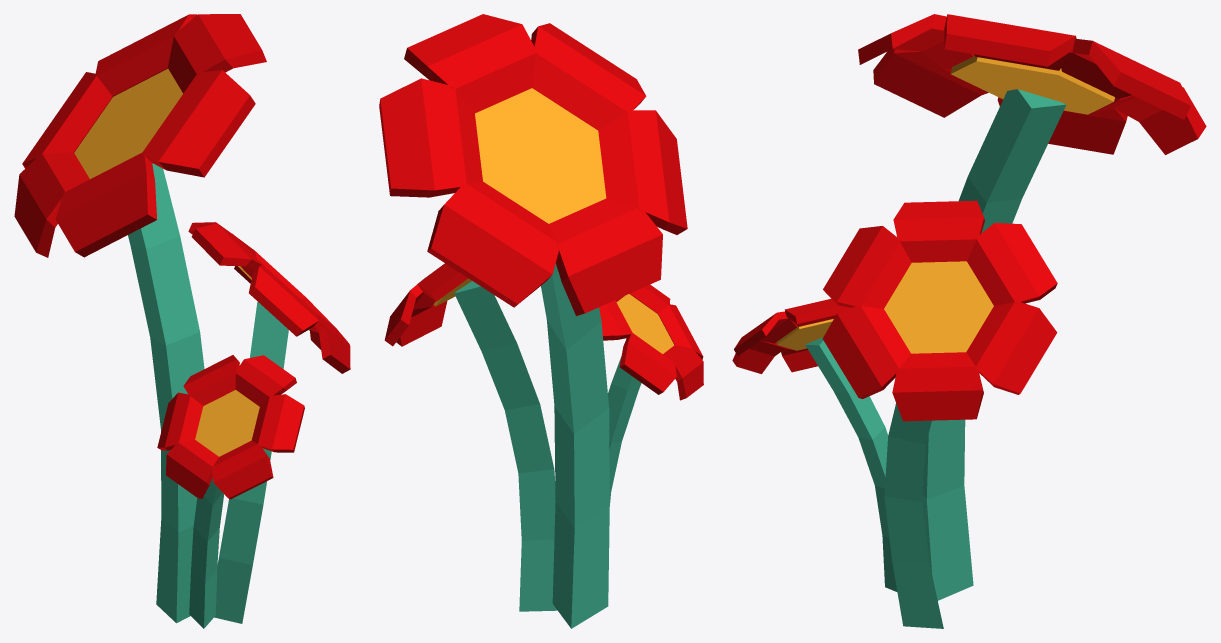
File: FloresROjas.fbx
3 renders of one model, left to right at view 1: azimuth 30°, elevation 25°; view 2: azimuth 150°, elevation 25°; view 3: azimuth 270°, elevation 25°, orthographic. The views are drawn at different scales.
Parts seen in each view (by area): view 1: Cube.008; view 2: Cube.008; view 3: Cube.008.
Boxes of the visible parts, box(x1,y1,x2,y2) form: Cube.008: box(14, 14, 350, 628); Cube.008: box(379, 14, 703, 628); Cube.008: box(732, 14, 1206, 628).
Bounding box in the file's own units: 27.98 × 55.41 × 38.77.
